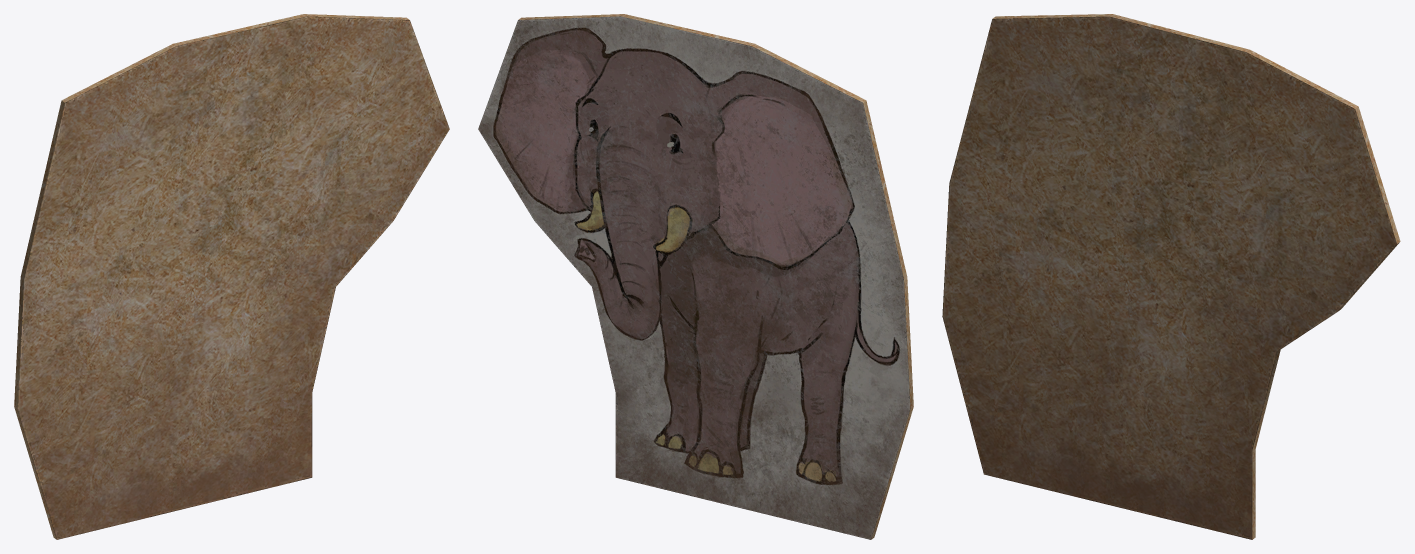
Rendered from elephant.DAE.
3 renders of one model, left to right at view 1: azimuth 30°, elevation 25°; view 2: azimuth 150°, elevation 25°; view 3: azimuth 330°, elevation 25°, orthographic. The views are drawn at different scales.
Parts seen in each view (by area): view 1: elephant_a70; view 2: elephant_a70; view 3: elephant_a70.
Part boxes in pixels (bbox=[...]): elephant_a70: bbox=[14, 14, 449, 539]; elephant_a70: bbox=[478, 14, 913, 539]; elephant_a70: bbox=[942, 14, 1400, 539].
Bounding box in the file's own units: 3.23 × 0.0432 × 3.32.
